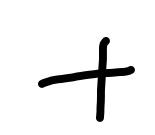plus: (38, 37, 135, 122)
